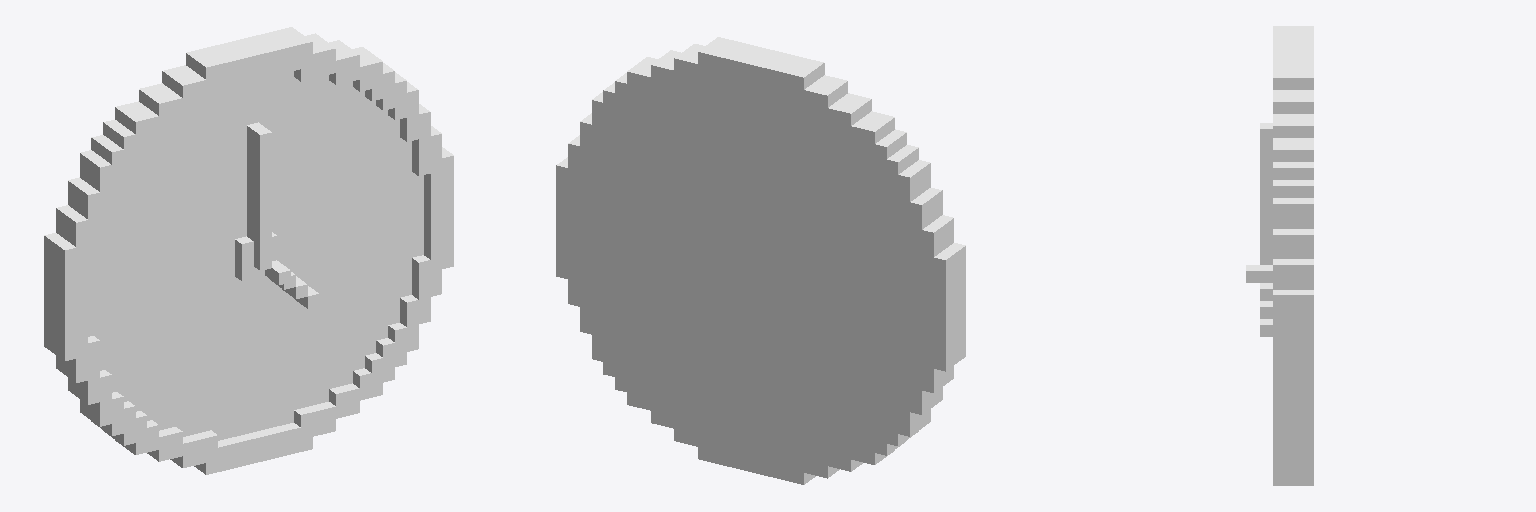
File: old_clock.obj
3 renders of one model, left to right at view 1: azimuth 30°, elevation 25°; view 2: azimuth 150°, elevation 25°; view 3: azimuth 270°, elevation 25°, orthographic.
Bounding box in the file's own units: 33 × 33 × 5.